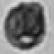correct: (3, 3, 51, 52)
